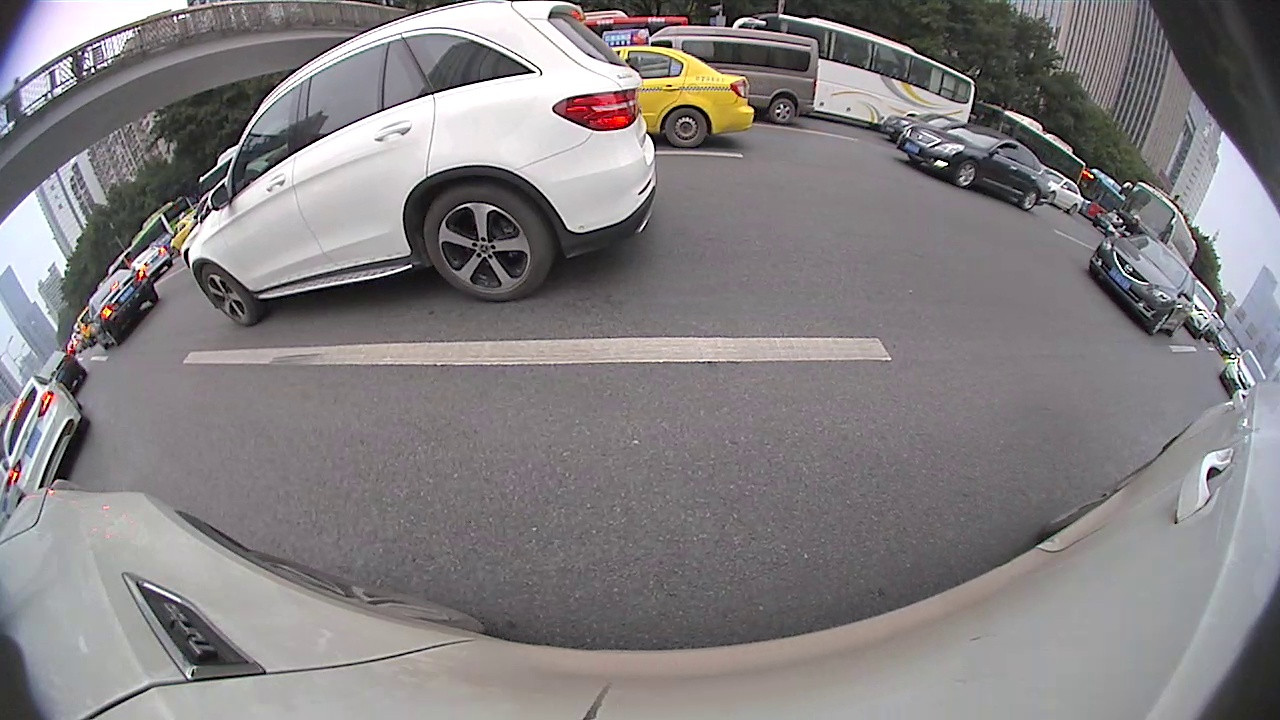bus: (728, 13, 976, 128), (964, 100, 1086, 186), (1115, 178, 1200, 269)
car: (185, 1, 658, 327), (645, 21, 820, 129), (601, 44, 760, 151), (895, 121, 1052, 212), (1086, 232, 1199, 338), (2, 373, 90, 497), (78, 265, 160, 352), (1220, 344, 1268, 395)
front: (199, 263, 259, 329), (953, 159, 980, 189)
rear: (422, 183, 554, 304), (663, 107, 709, 150), (769, 99, 797, 126), (1020, 189, 1038, 211), (1068, 204, 1077, 216)
